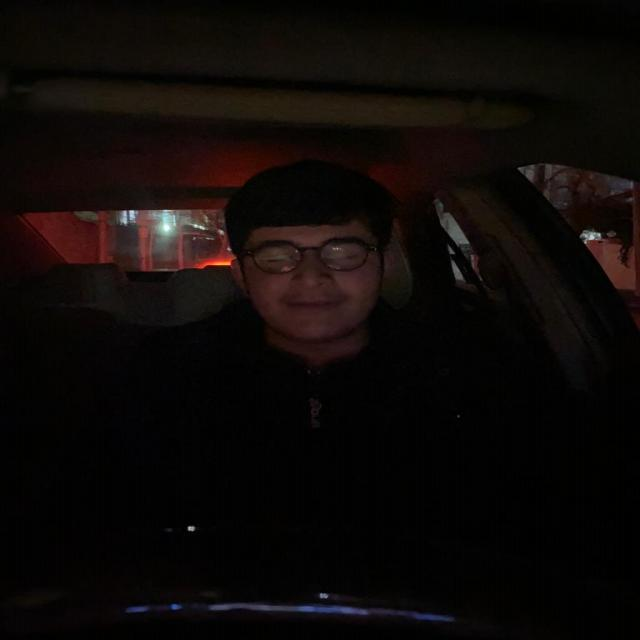drowsy: (211, 169, 398, 343)
